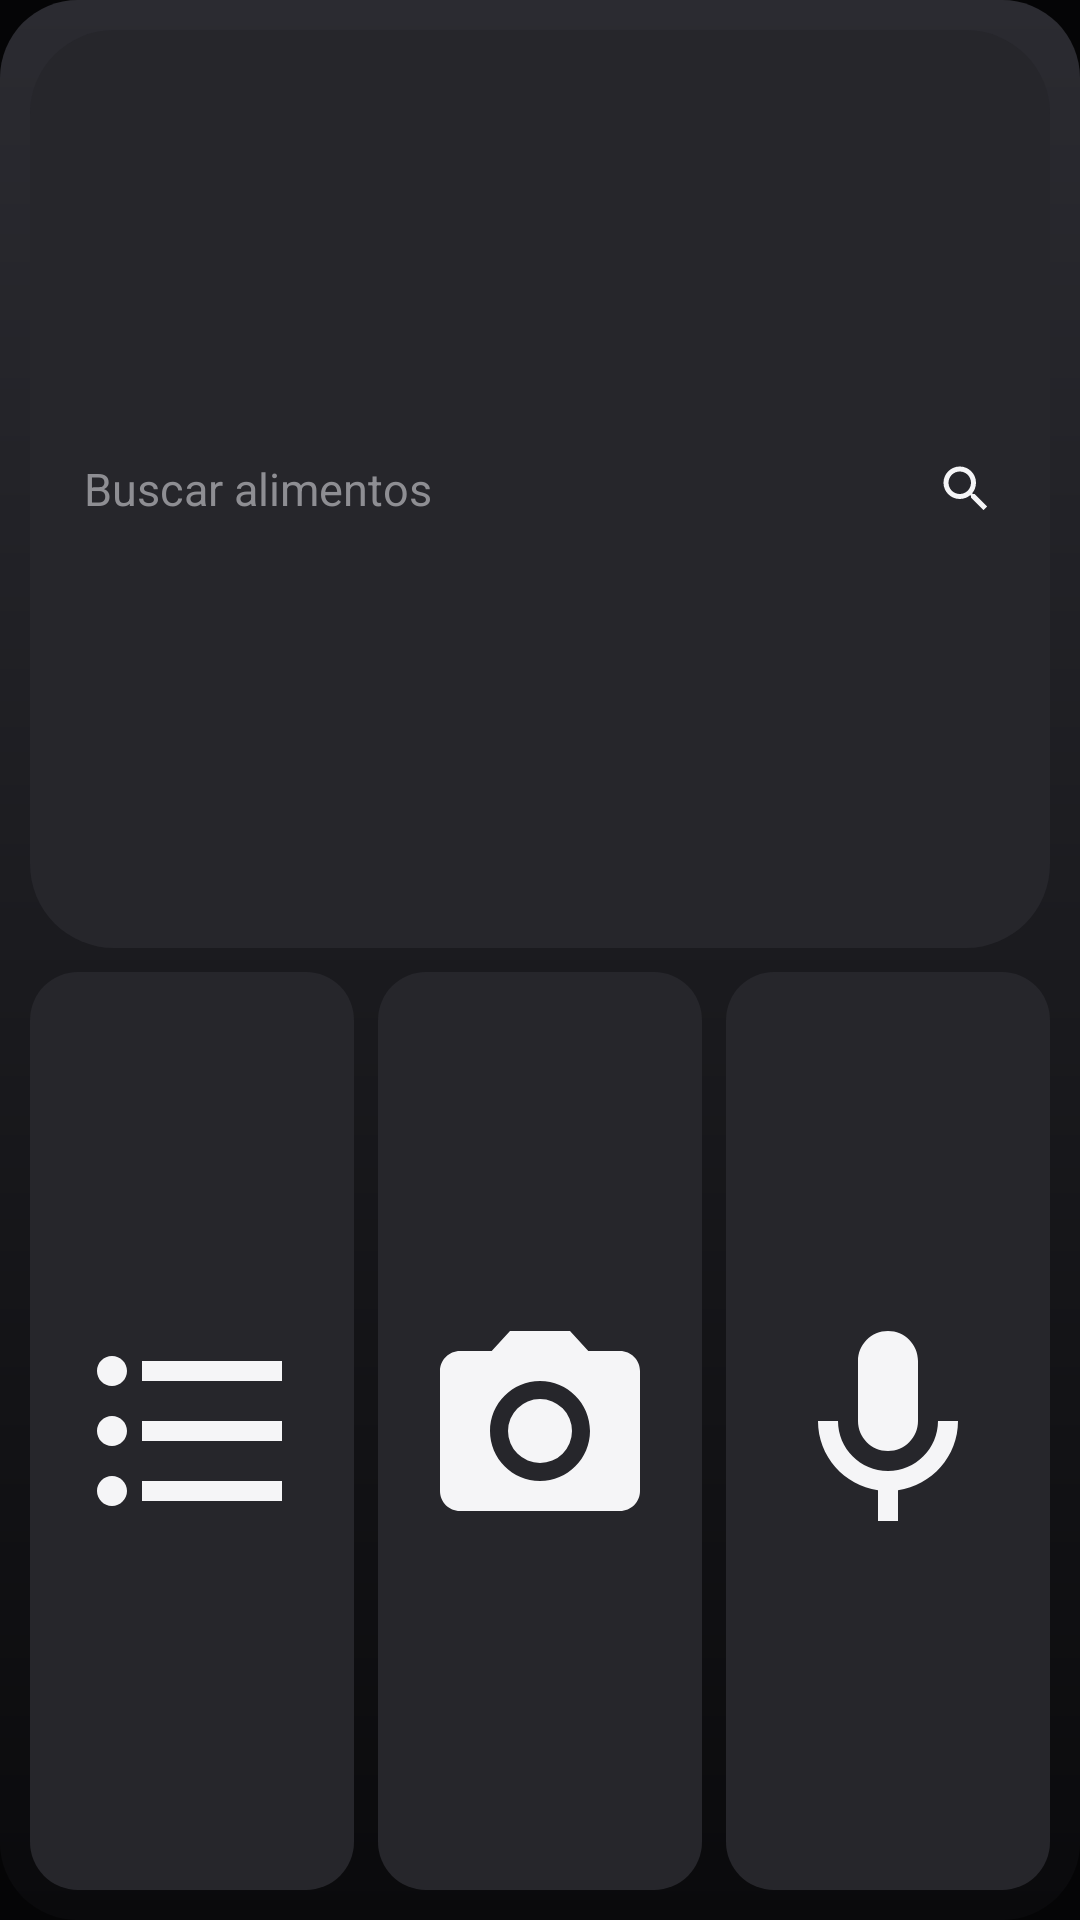

Where to tap for icons on this 1080×1920 app screen, as [x,y]:
Buscar alimentos: [965,488]
Escanear: [540,1421]
